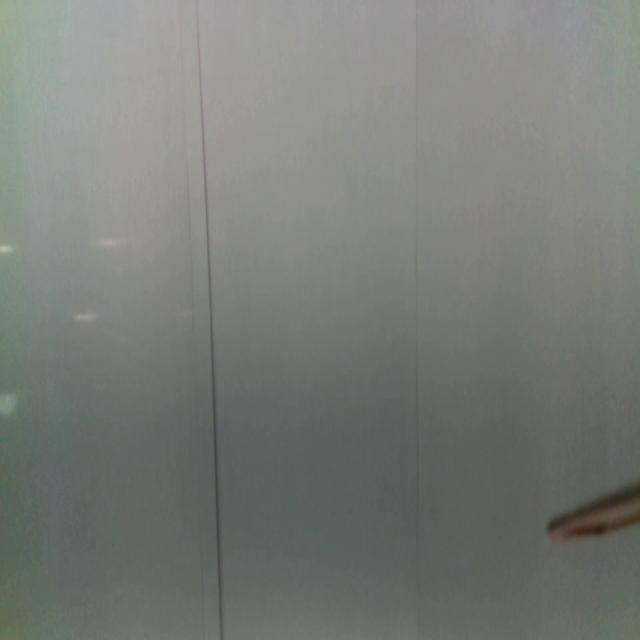crease: (196, 0, 224, 640), (177, 0, 198, 332), (414, 0, 420, 553)
